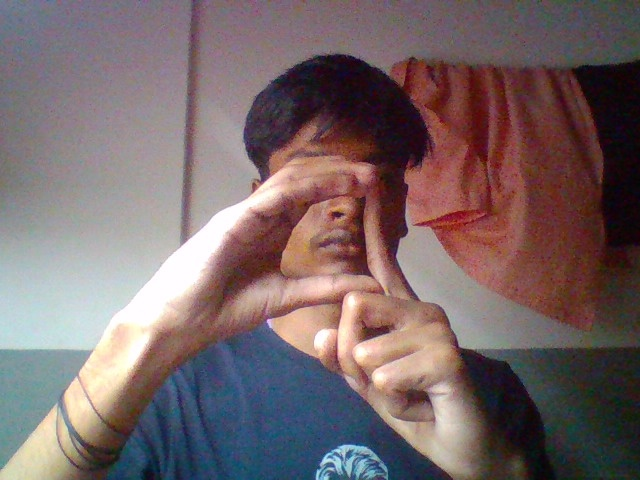D: (99, 149, 515, 437)
